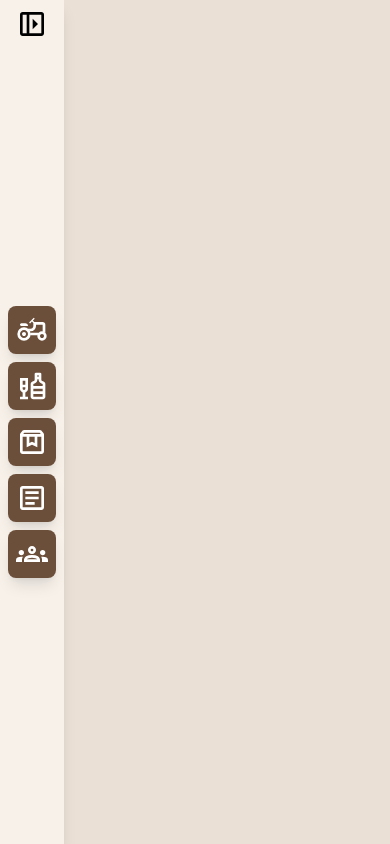
Test case: Menu bar › Check expanded menu items show labels
What coordinates should you click on to do the following:
click the button named "Toggle menu"
I would click on:
 (32, 24)
Its box is x1=16 y1=8 x2=48 y2=40.
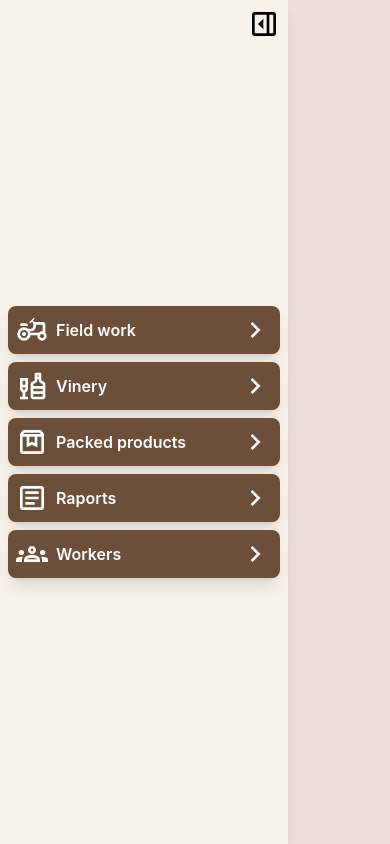
Result: the button "Field work" is shown at x1=8 y1=306 x2=280 y2=354
